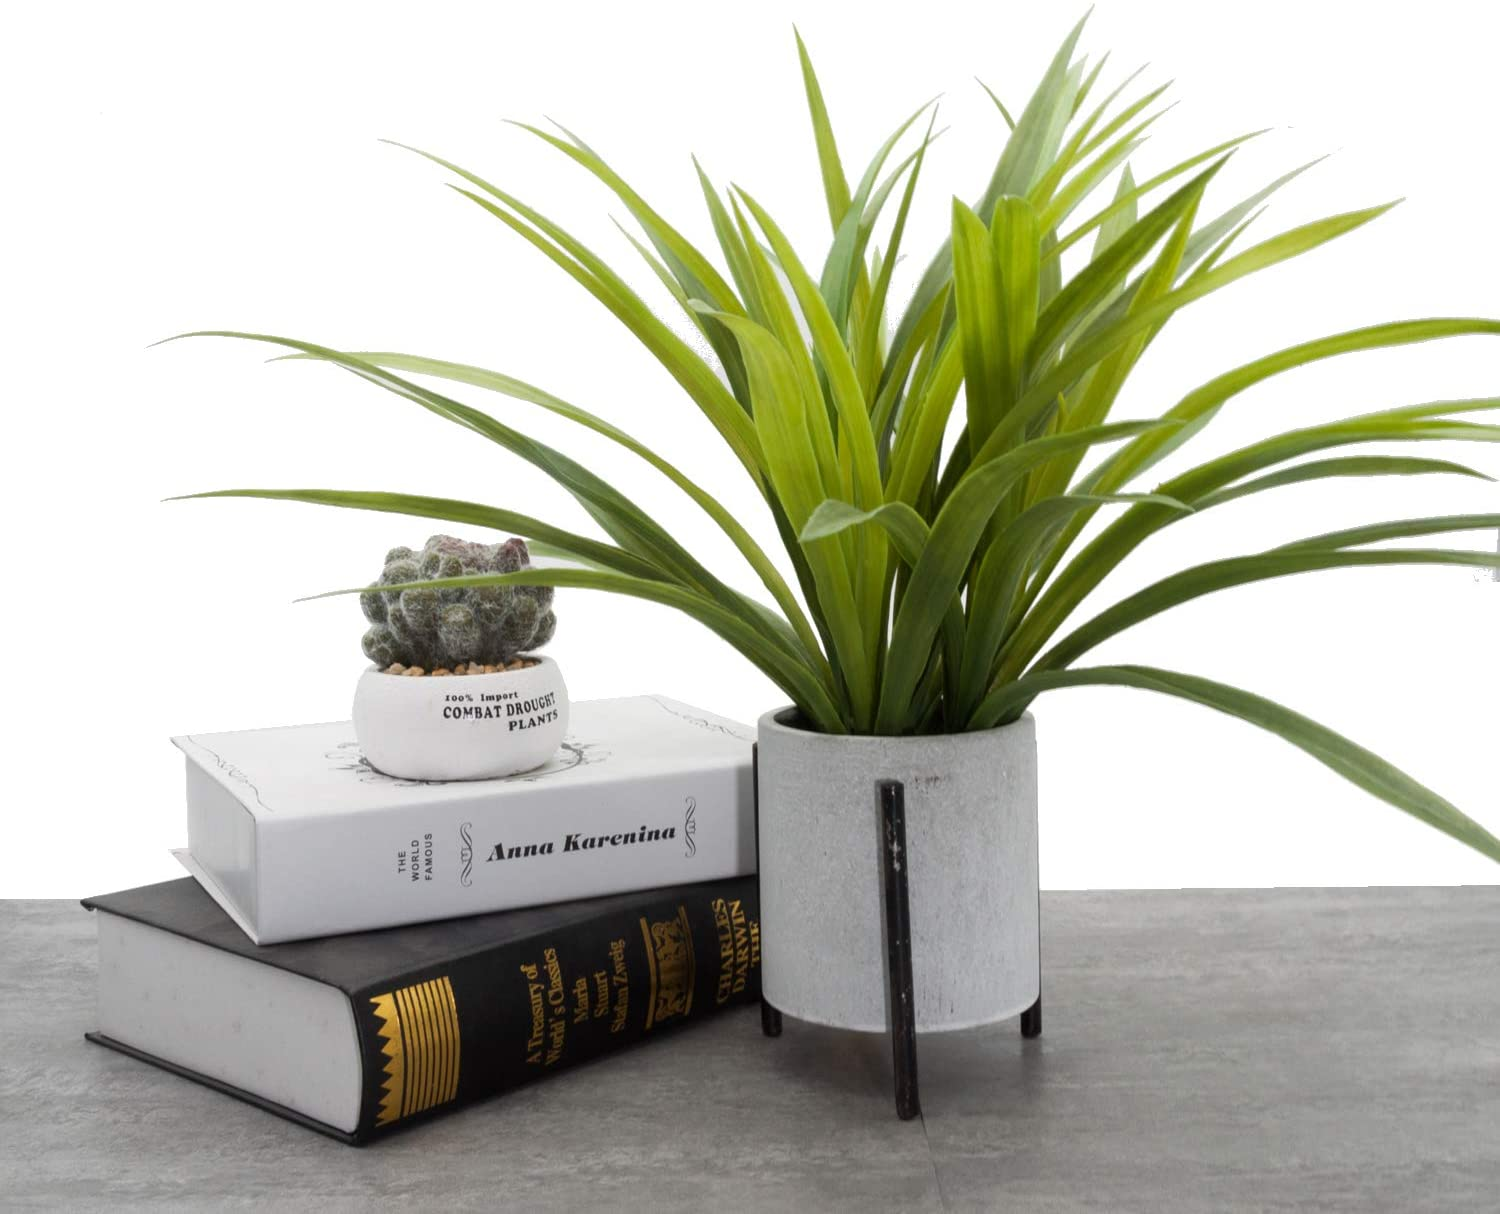buku: (102, 715, 753, 1107)
tanaman: (556, 42, 1256, 1085)
